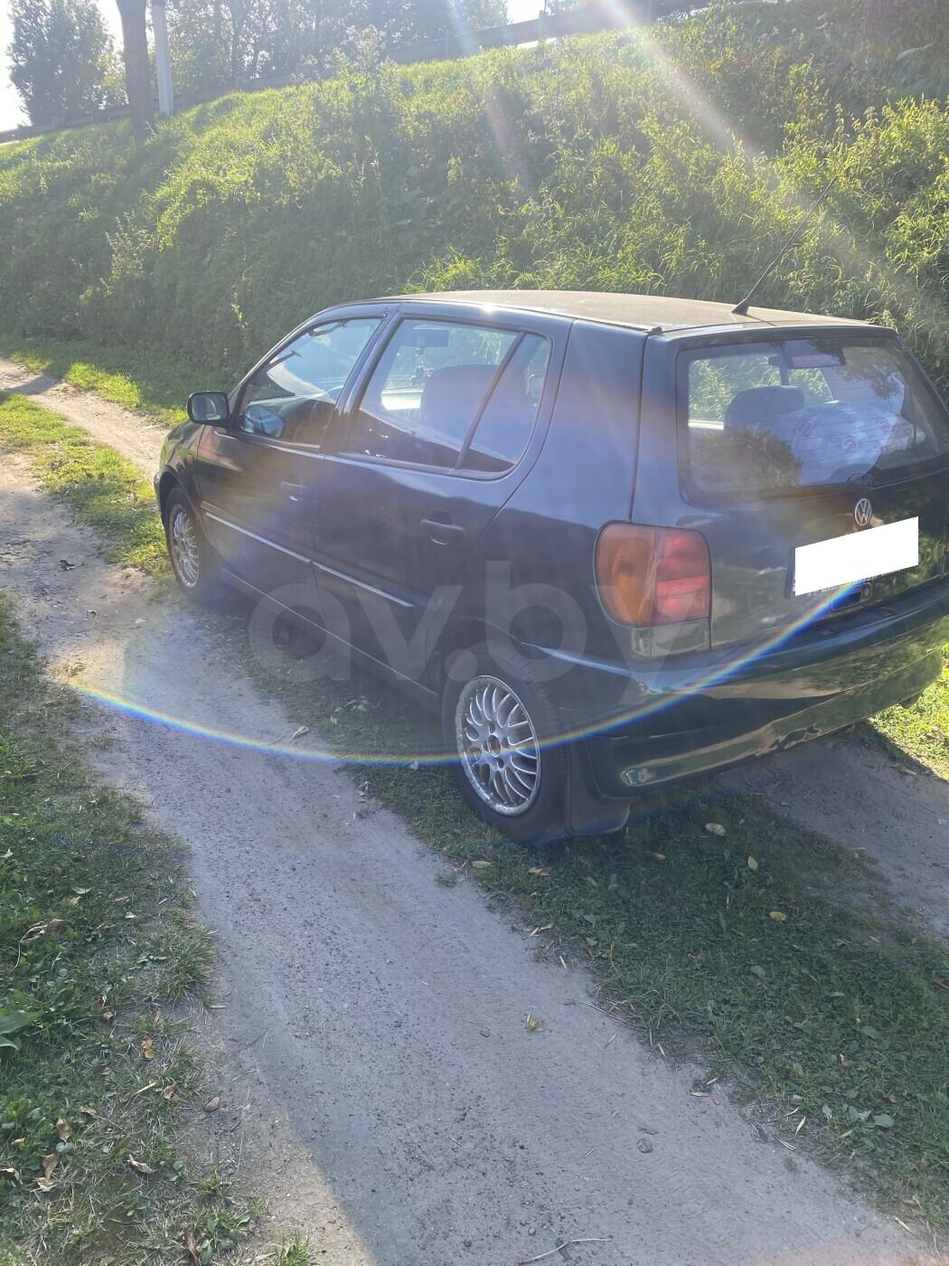Polo_1994-2002: (137, 286, 948, 866)
